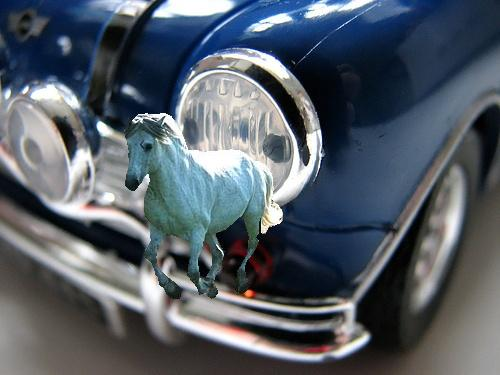tampered: (125, 114, 283, 299)
